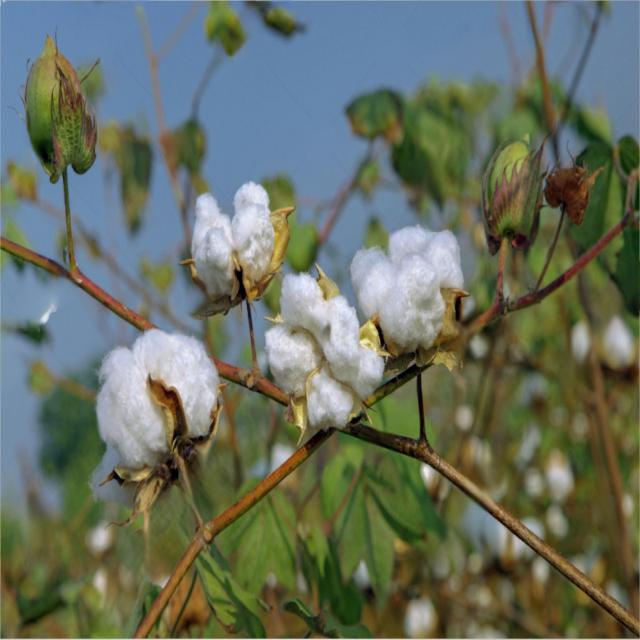Early_blight: (90, 330, 230, 514), (257, 254, 385, 440), (349, 208, 470, 361), (176, 164, 277, 320)
